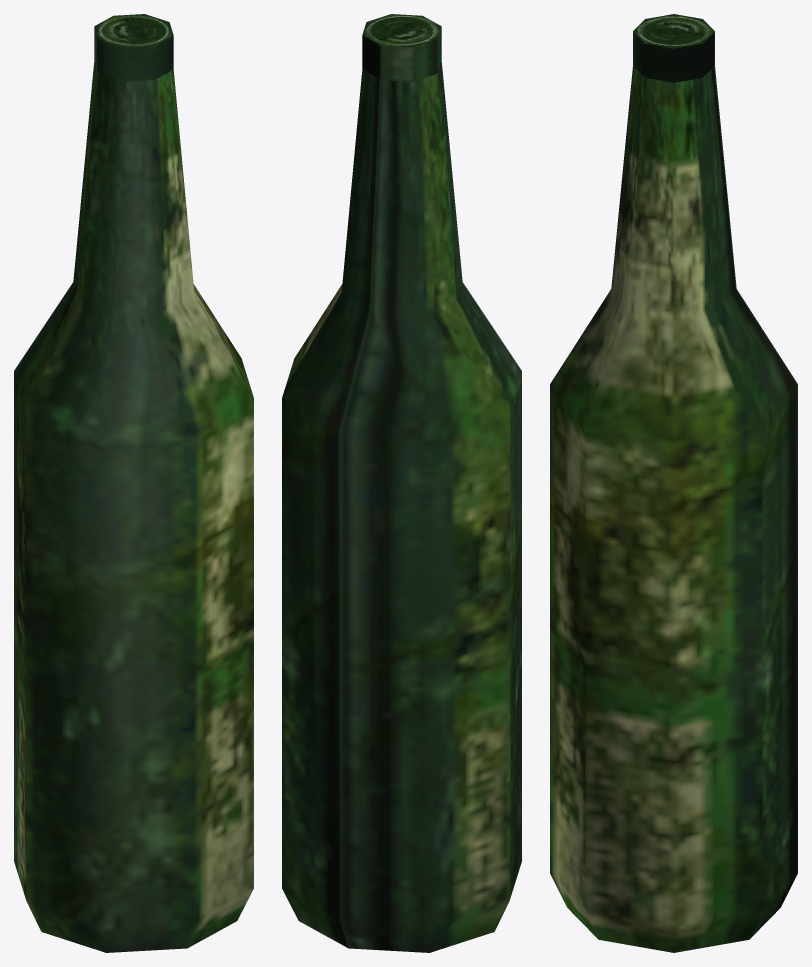
Rendered from botella1.fbx.
3 renders of one model, left to right at view 1: azimuth 30°, elevation 25°; view 2: azimuth 150°, elevation 25°; view 3: azimuth 270°, elevation 25°, orthographic.
Visible parts, largest first — view 1: garbage_glassbottle003a_reference; view 2: garbage_glassbottle003a_reference; view 3: garbage_glassbottle003a_reference.
Part boxes in pixels (x1,y1,x2,y2): garbage_glassbottle003a_reference: [14, 14, 253, 952]; garbage_glassbottle003a_reference: [282, 14, 521, 952]; garbage_glassbottle003a_reference: [550, 14, 797, 952].
Size of the model in its own units: 412 by 1609 by 412.
